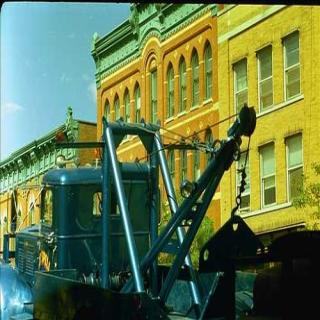Towing_truck: (19, 101, 260, 318)
